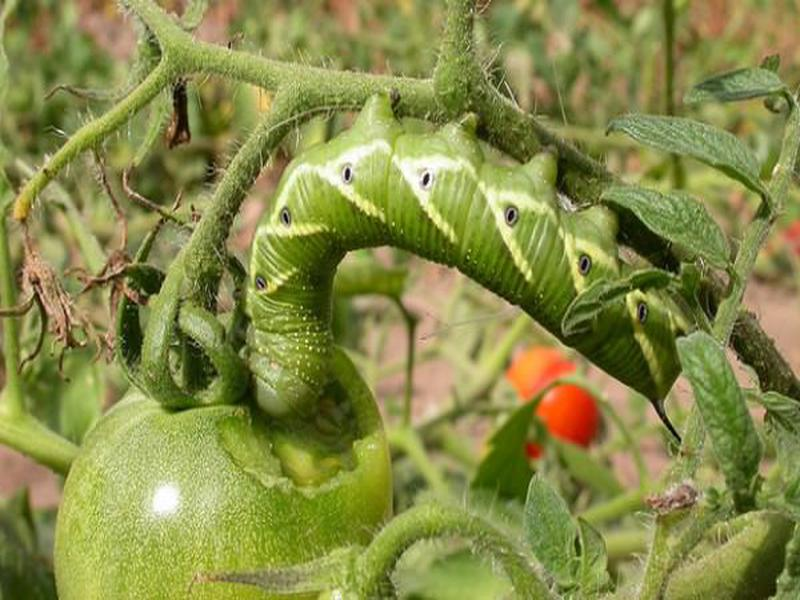Rice_horned_caterpillar: (220, 92, 731, 460)
